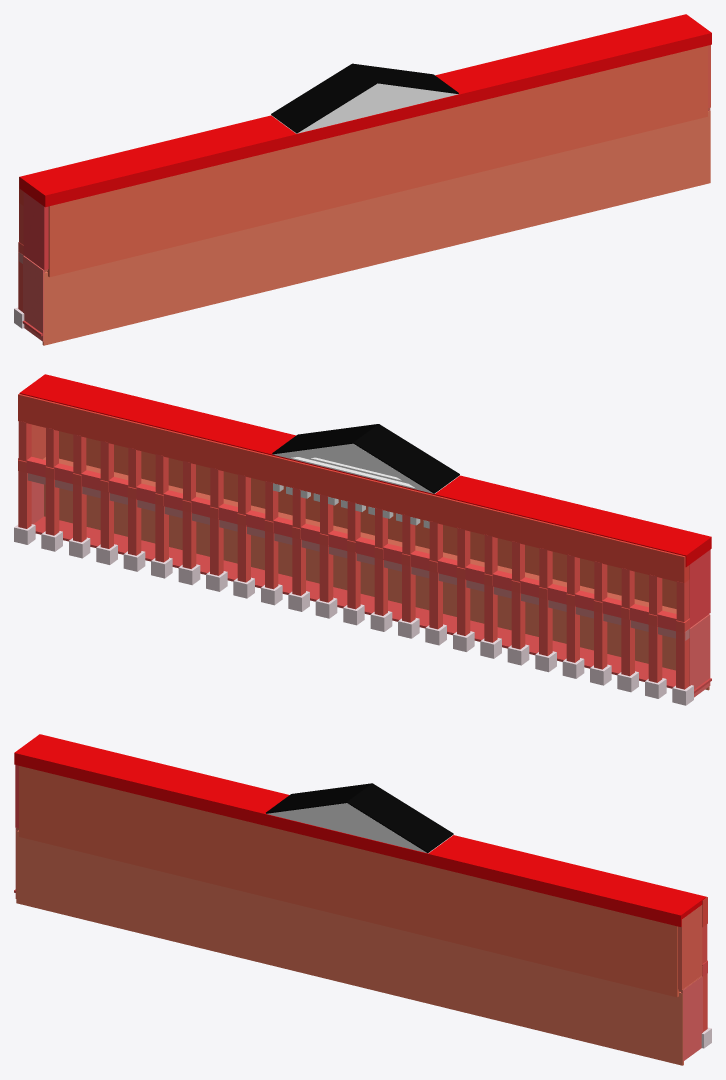
Rendered from 主建築有2.fbx.
The picture shows the model from 3 angles, top to bottom: view 1: azimuth 30°, elevation 25°; view 2: azimuth 150°, elevation 25°; view 3: azimuth 330°, elevation 25°; orthographic projection.
Parts seen in each view (by area): view 1: 立方體.019, 立方體.005, 立方體.018, 圓柱體.001, 圓柱體, 立方體.016; view 2: 立方體.005, 立方體.001, 立方體, 立方體.018, 立方體.019, 立方體.002, 圓柱體.001, 圓柱體, 立方體.016; view 3: 立方體.019, 立方體.005, 立方體.018, 圓柱體.001, 圓柱體, 立方體.017.
Boxes of the visible parts, bbox=[...] form: 立方體.019: bbox=[47, 45, 707, 277]; 立方體.005: bbox=[14, 108, 710, 345]; 立方體.018: bbox=[19, 14, 711, 207]; 圓柱體.001: bbox=[271, 63, 458, 133]; 圓柱體: bbox=[271, 83, 458, 133]; 立方體.016: bbox=[23, 192, 48, 269]; 立方體.005: bbox=[14, 457, 711, 705]; 立方體.001: bbox=[18, 393, 689, 582]; 立方體: bbox=[18, 421, 689, 633]; 立方體.018: bbox=[19, 374, 711, 566]; 立方體.019: bbox=[59, 431, 676, 608]; 立方體.002: bbox=[18, 456, 676, 631]; 圓柱體.001: bbox=[272, 424, 459, 493]; 圓柱體: bbox=[272, 443, 459, 493]; 立方體.016: bbox=[689, 549, 710, 627]; 立方體.019: bbox=[19, 766, 679, 997]; 立方體.005: bbox=[14, 827, 711, 1065]; 立方體.018: bbox=[14, 734, 706, 926]; 圓柱體.001: bbox=[266, 783, 453, 852]; 圓柱體: bbox=[266, 803, 452, 853]; 立方體.017: bbox=[678, 905, 702, 989].
Bounding box in the file's own units: 15691 × 4093 × 1151.
